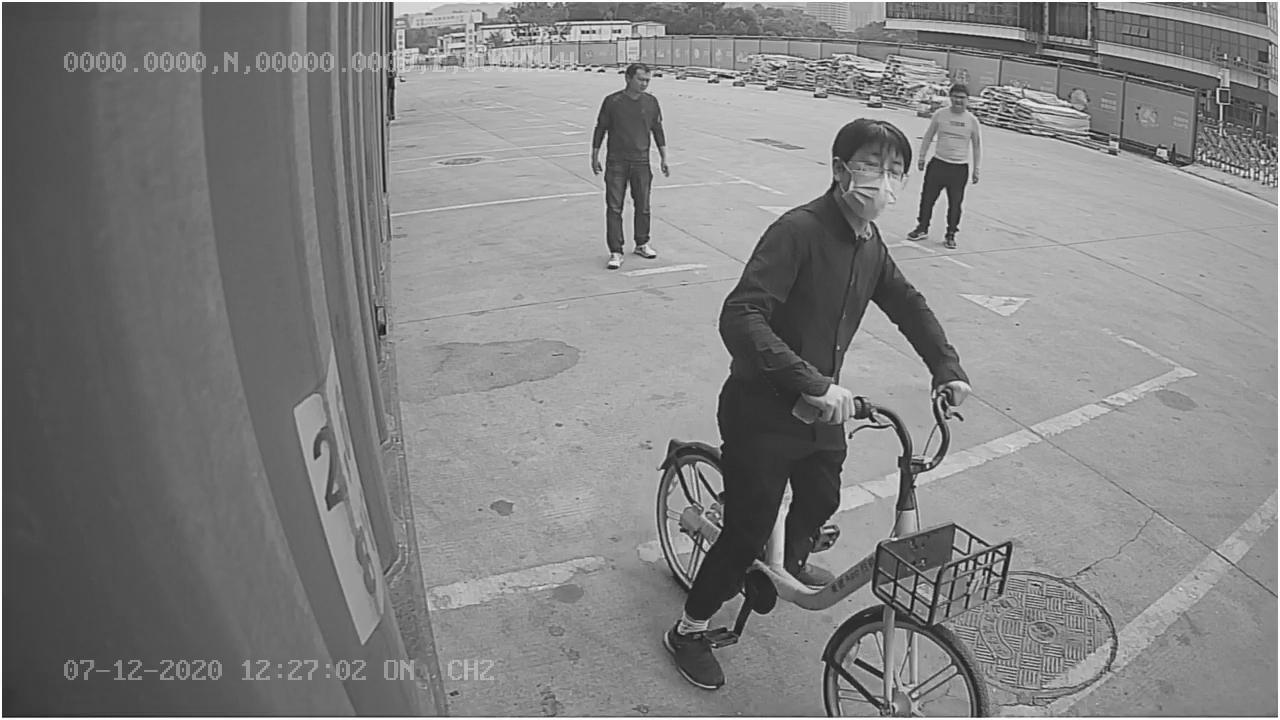person: (583, 58, 677, 276)
